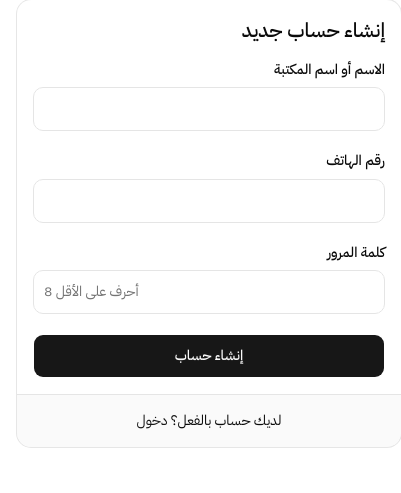
Scenario: RegisterForm › shows phone_taken on the phone field
This screenshot has width=401, height=493.
Step 1. Type "مكتبة الأمل" into the field labelled "الاسم أو اسم المكتبة" → (209, 109), box [33, 87, 385, 131]
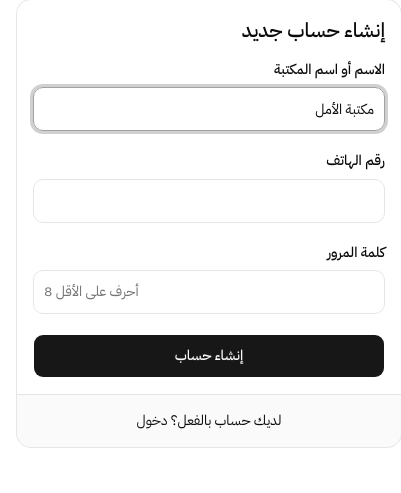
Step 2. Type "01012345678" into the field labelled "رقم الهاتف" → (209, 200), box [33, 178, 385, 222]
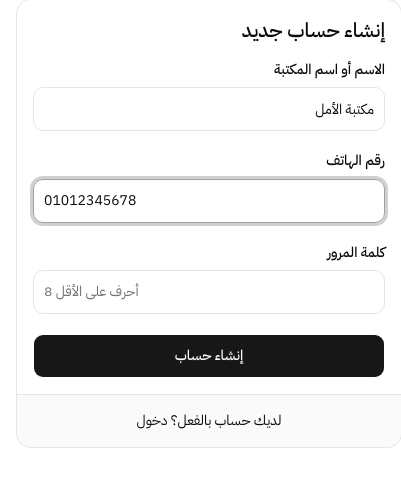
Step 3. Type "secret123" into the password field labelled "كلمة المرور" → (209, 292), box [33, 270, 385, 314]
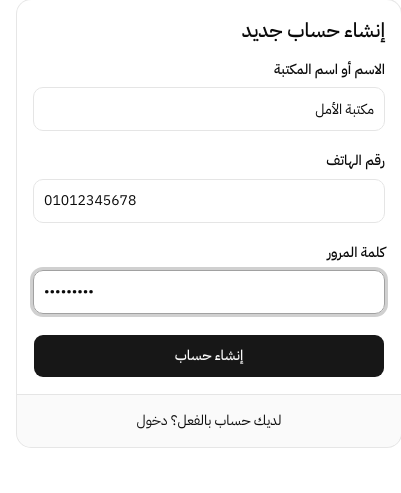
Step 4. Click the button "إنشاء حساب" → (209, 356), box [33, 334, 385, 378]
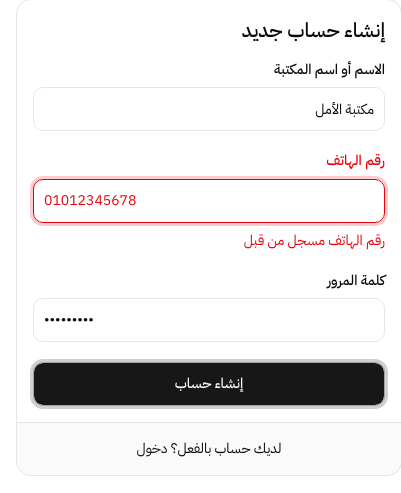
Result: the text "رقم الهاتف مسجل من قبل" is shown at [244, 230, 385, 250]
